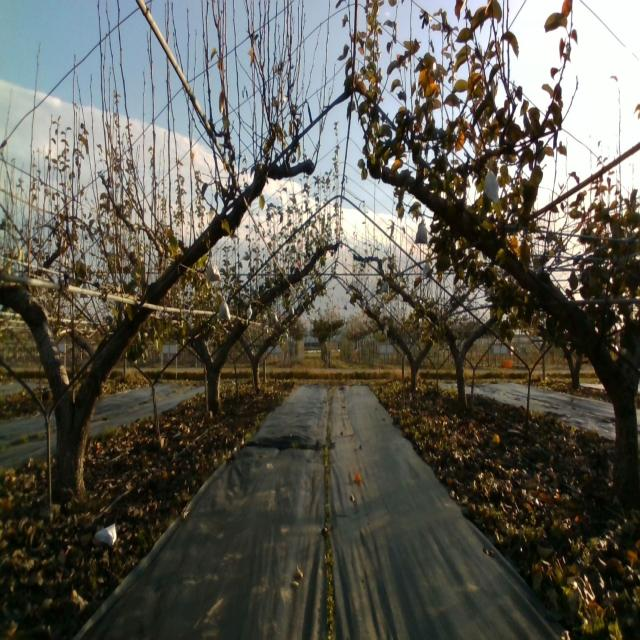pearbags: (483, 168, 499, 204), (207, 256, 221, 282), (414, 218, 428, 244), (219, 294, 231, 320)
